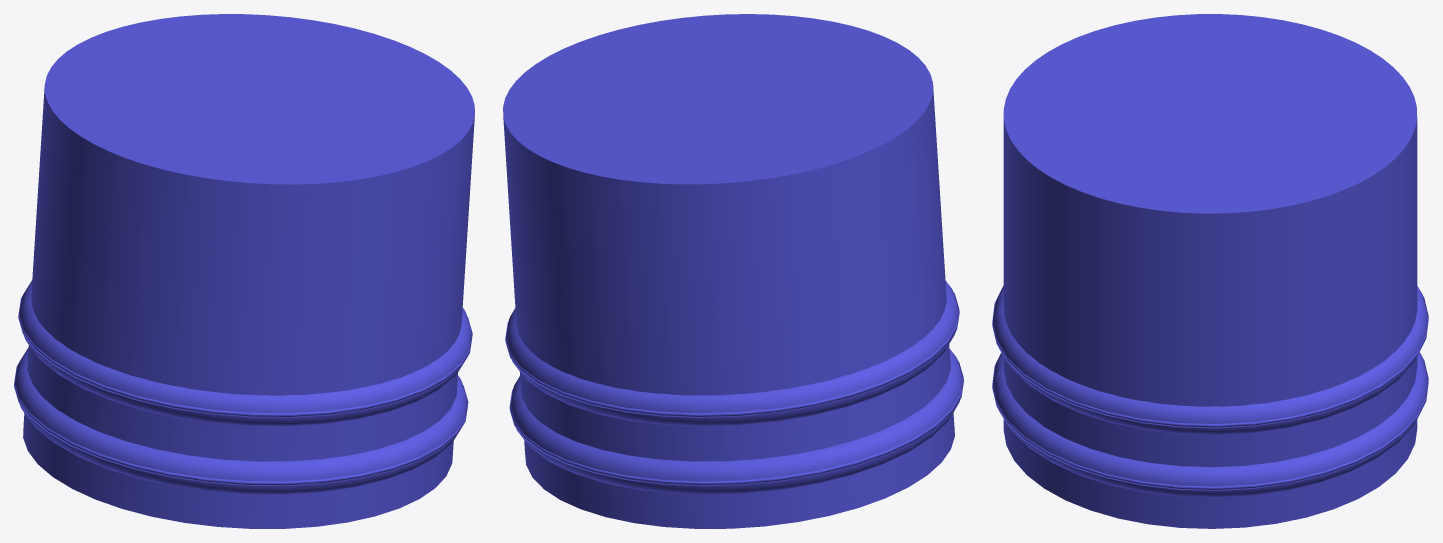
The model's file is bombilla84.obj.
3 renders of one model, left to right at view 1: azimuth 30°, elevation 25°; view 2: azimuth 150°, elevation 25°; view 3: azimuth 270°, elevation 25°, orthographic. The views are drawn at different scales.
Visible parts, largest first — view 1: Cylinder001, Cylinder004, Cylinder003, Cylinder006, Cylinder002; view 2: Cylinder001, Cylinder004, Cylinder003, Cylinder006, Cylinder002; view 3: Cylinder001, Cylinder004, Cylinder002, Cylinder003, Cylinder006.
Boxes of the visible parts, x1,y1,x2,y2 form: Cylinder001: (31,14,474,395); Cylinder004: (14,348,468,494); Cylinder003: (27,345,457,461); Cylinder006: (23,413,453,528); Cylinder002: (18,280,472,426); Cylinder001: (503,14,946,395); Cylinder004: (509,349,963,494); Cylinder003: (519,344,950,461); Cylinder006: (524,413,954,528); Cylinder002: (505,281,959,426); Cylinder001: (1003,14,1417,406); Cylinder004: (992,352,1428,497); Cylinder002: (992,285,1428,434); Cylinder003: (1003,356,1417,467); Cylinder006: (1003,419,1417,528).
Bounding box in the file's own units: 73.59 × 64.04 × 72.21.
